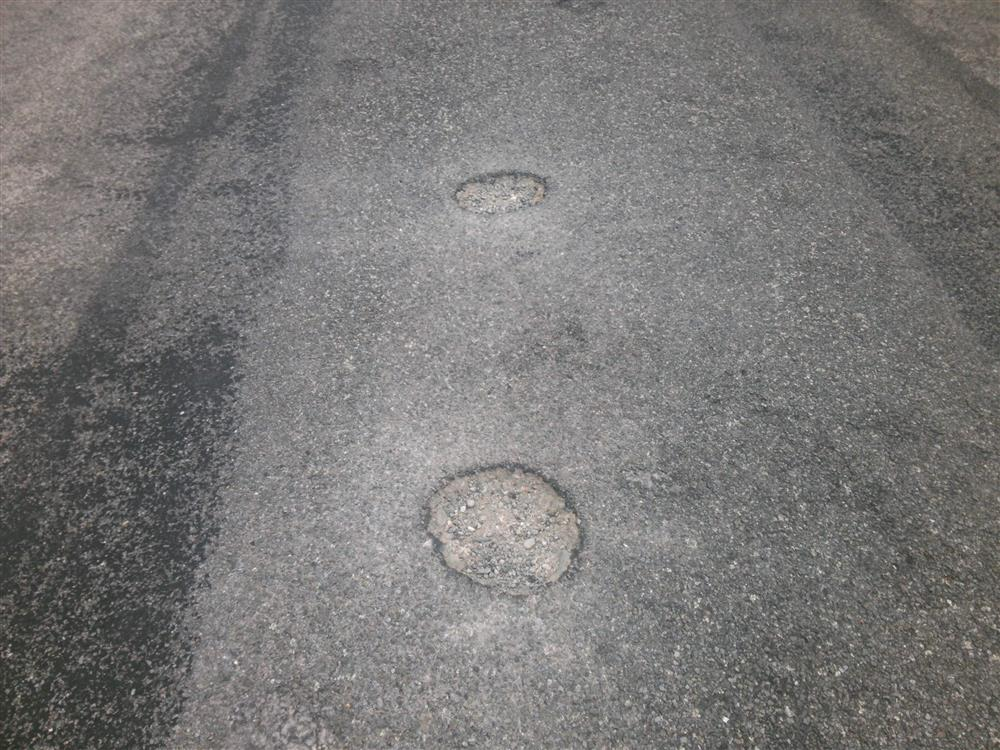pothole: (411, 462, 594, 598), (438, 170, 555, 217)
